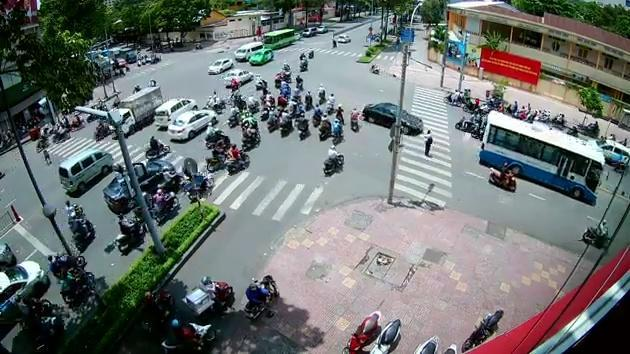xe buyt: (477, 109, 604, 202)
xe hoi: (166, 108, 217, 140), (152, 97, 197, 126), (223, 68, 253, 85), (207, 56, 234, 73)
xe may: (487, 160, 515, 192), (222, 143, 249, 175), (321, 144, 343, 177), (278, 106, 294, 136), (296, 112, 310, 141), (318, 111, 332, 139), (330, 118, 344, 144)
xe tai: (119, 86, 163, 133)
xe van: (57, 148, 113, 192)
